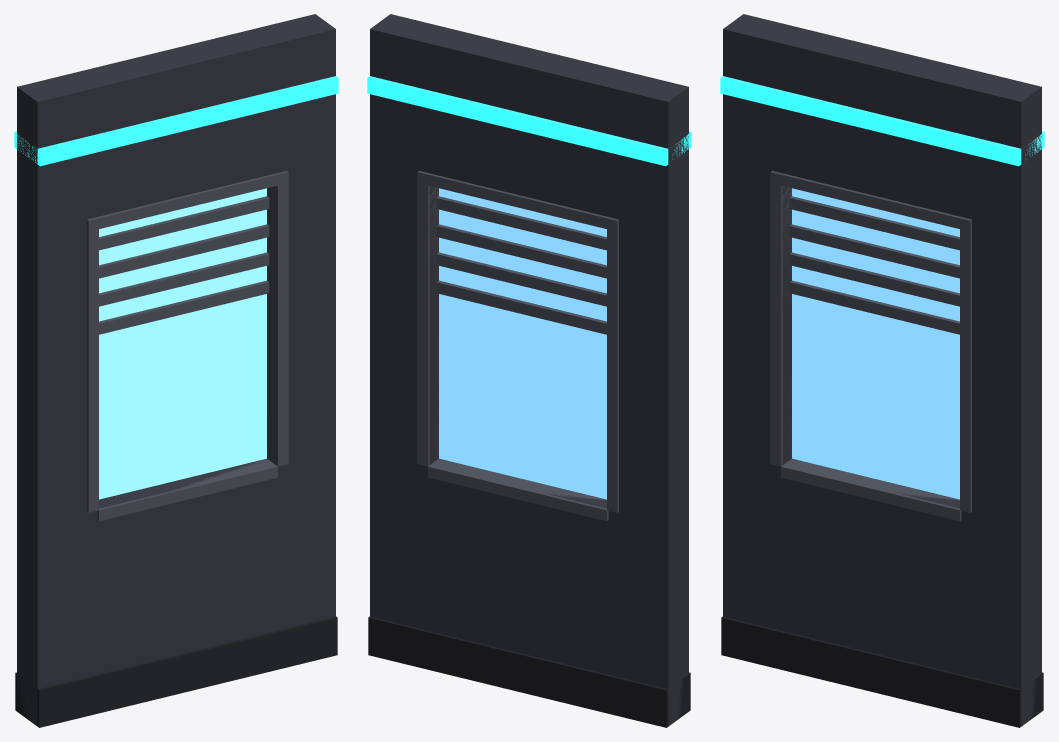
File: cyb-concreto-ciano-janela.gltf
The picture shows the model from 3 angles, left to right: view 1: azimuth 30°, elevation 25°; view 2: azimuth 150°, elevation 25°; view 3: azimuth 330°, elevation 25°; orthographic projection.
Visible parts, largest first — view 1: cyb-concreto-ciano-janela; view 2: cyb-concreto-ciano-janela; view 3: cyb-concreto-ciano-janela.
Part boxes in pixels (x1=…): cyb-concreto-ciano-janela: x1=14, y1=14, x2=338, y2=727; cyb-concreto-ciano-janela: x1=367, y1=14, x2=691, y2=727; cyb-concreto-ciano-janela: x1=720, y1=14, x2=1044, y2=727.
Size of the model in its own units: 1 by 2 by 0.15.
